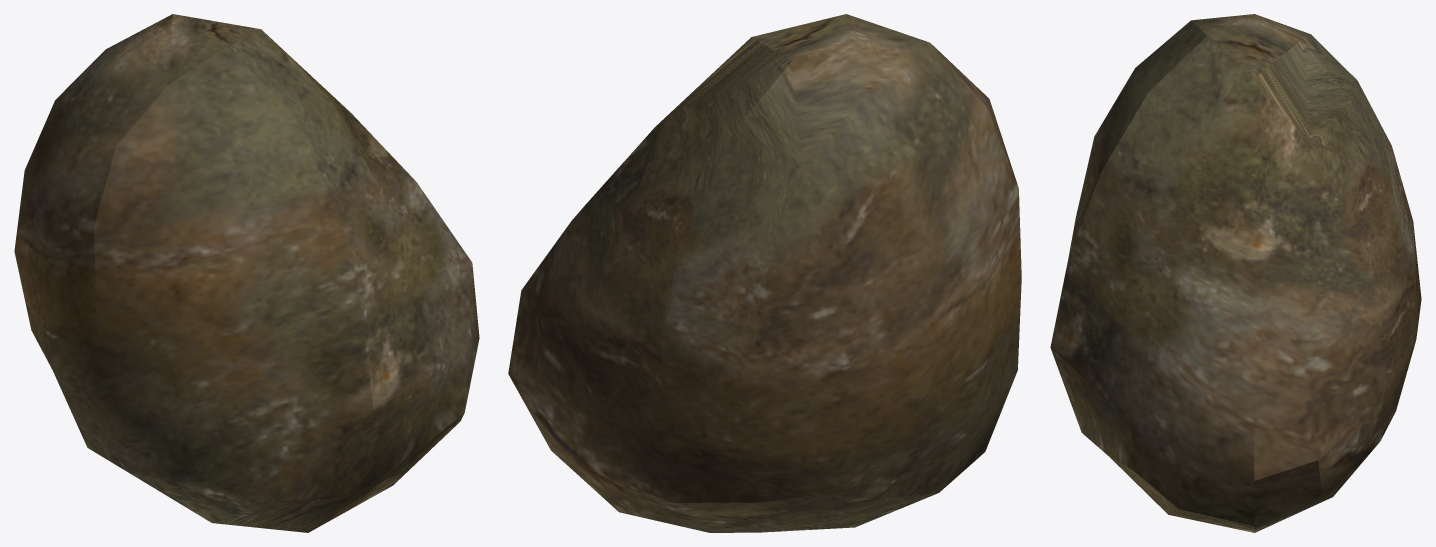
Rendered from rock1.gltf.
The picture shows the model from 3 angles, left to right: view 1: azimuth 30°, elevation 25°; view 2: azimuth 150°, elevation 25°; view 3: azimuth 270°, elevation 25°; orthographic projection. The views are drawn at different scales.
Visible parts, largest first — view 1: rock.002; view 2: rock.002; view 3: rock.002.
Part boxes in pixels (<box>): rock.002: <box>14,14,479,532</box>; rock.002: <box>508,14,1021,532</box>; rock.002: <box>1050,14,1421,532</box>.
Size of the model in its own units: 0.7374 by 0.8095 by 0.6239.
